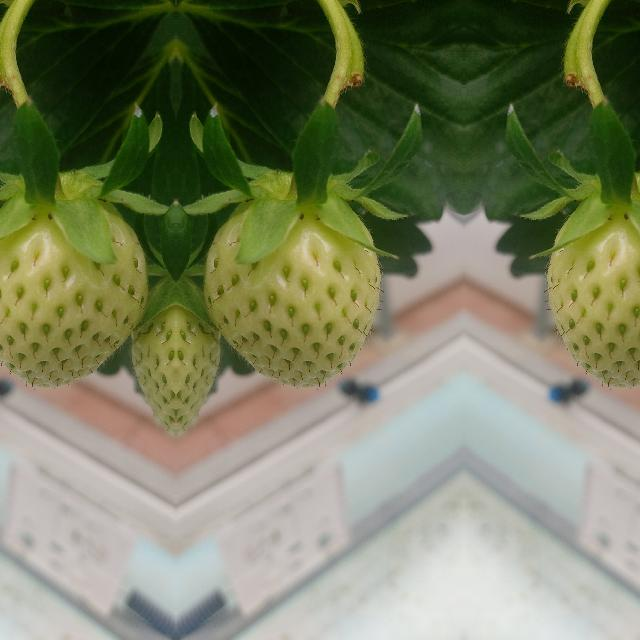Health_25: (203, 201, 379, 387), (0, 201, 147, 387), (547, 201, 640, 387), (175, 284, 219, 438), (131, 284, 175, 438)
